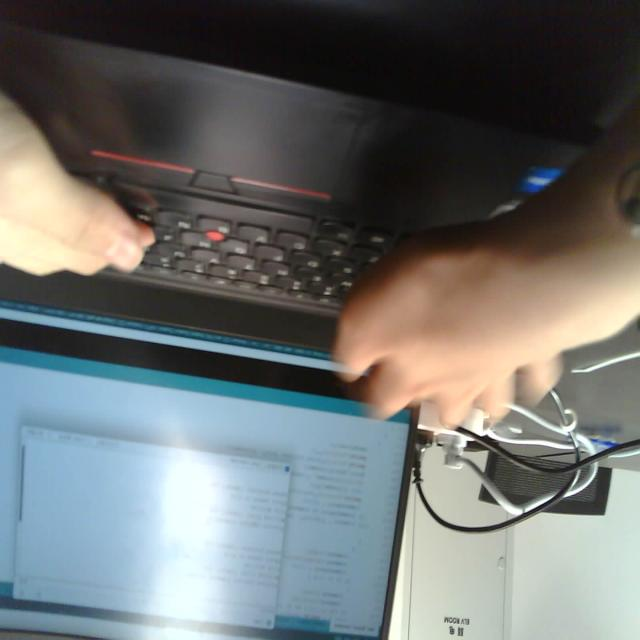keyboard-with-hands: (0, 21, 607, 332)
